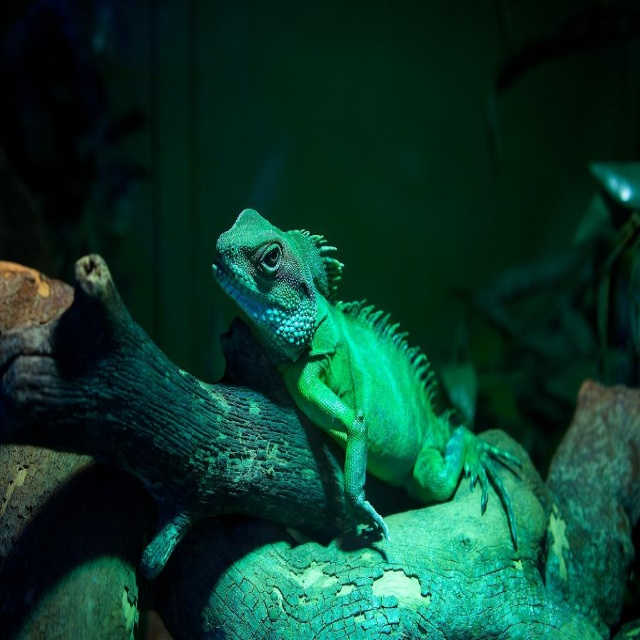Lizard: (209, 212, 546, 607)
